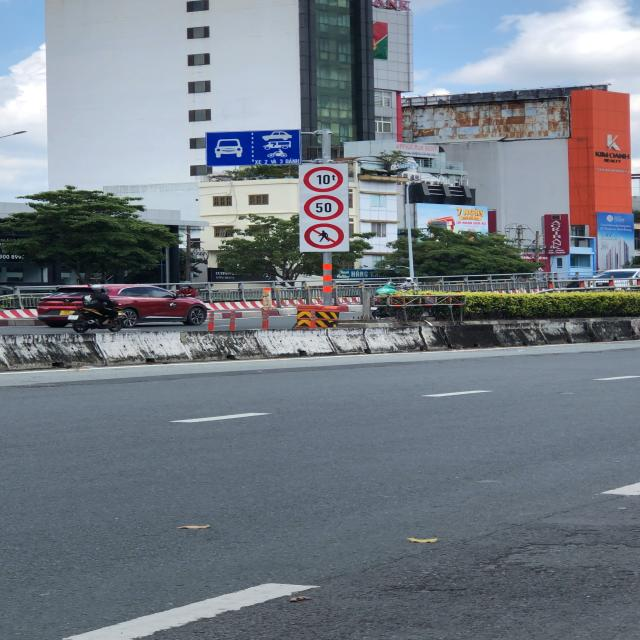Bien bao cam nguoi di bo: (301, 222, 348, 251)
Bien bao toc do toi da cho phep: (302, 194, 347, 221)
